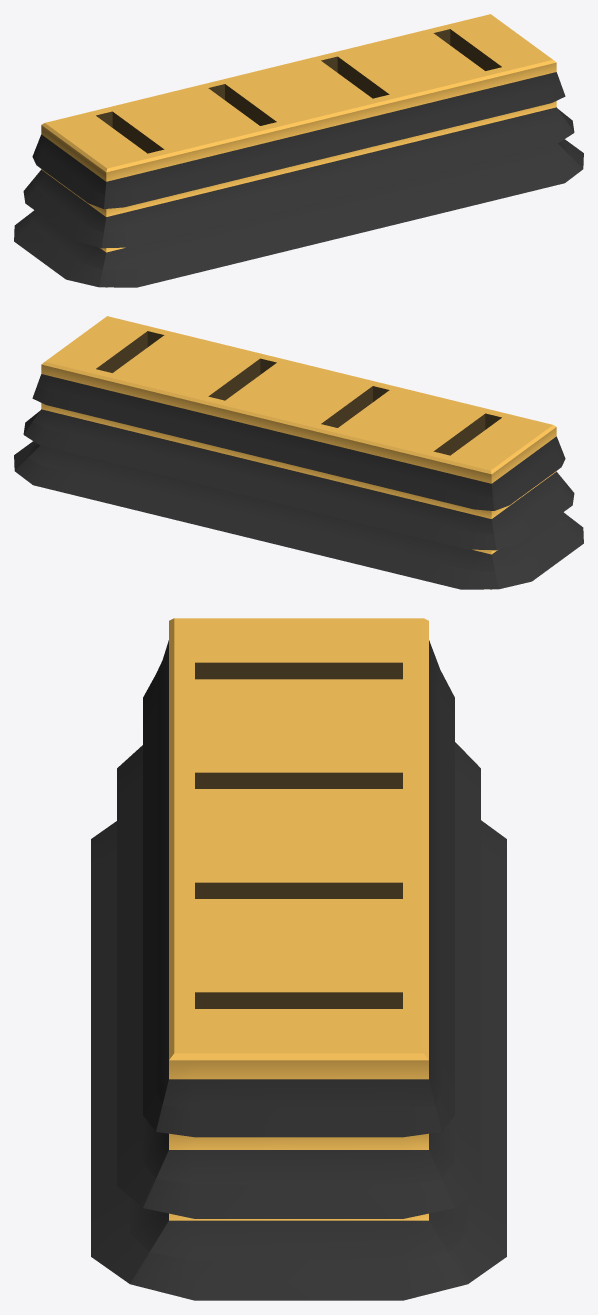
File: PuzzleBox.fbx
3 renders of one model, top to bottom at view 1: azimuth 30°, elevation 25°; view 2: azimuth 150°, elevation 25°; view 3: azimuth 270°, elevation 25°, orthographic. The views are drawn at different scales.
Parts seen in each view (by area): view 1: R2_PuzzleBox; view 2: R2_PuzzleBox; view 3: R2_PuzzleBox.
Boxes of the visible parts, x1,y1,x2,y2 form: R2_PuzzleBox: [14, 14, 583, 287]; R2_PuzzleBox: [14, 316, 583, 589]; R2_PuzzleBox: [91, 618, 506, 1300].
Bounding box in the file's own units: 0.046 × 0.01 × 0.016.
1 material, 1 textured.
